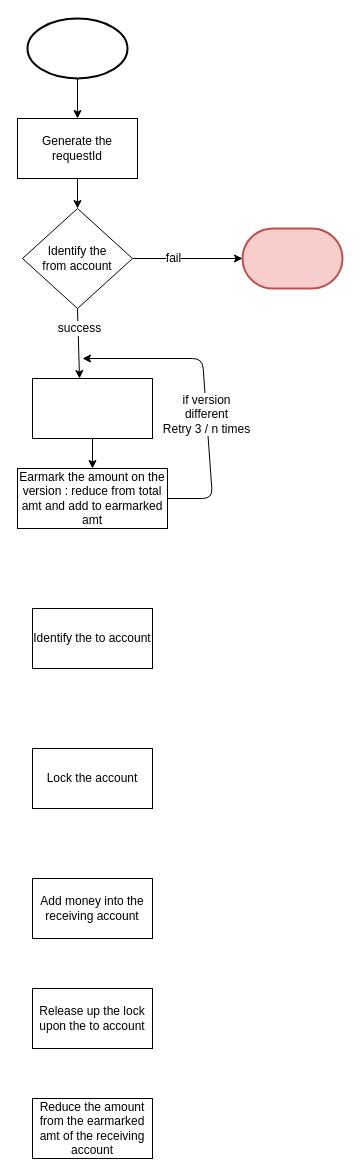
Some shapes in this 361 by 1176 pixel diagram are drawn without their labels. Each missing label, with the centre of its shape:
Optimistic Lock the account : fetch the version: point (92, 408)
send money: point (77, 48)
Throw exception receiver account not found: point (292, 258)
